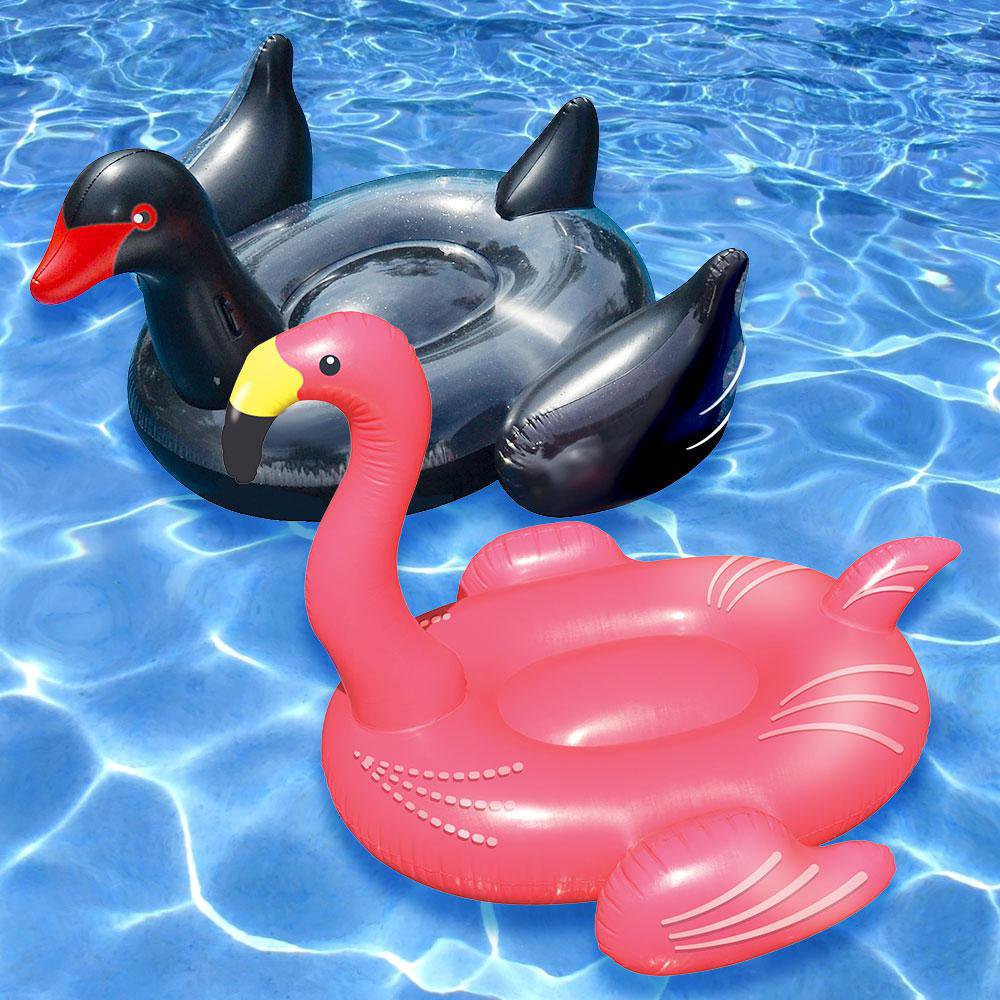Flamingo: (218, 309, 961, 976)
